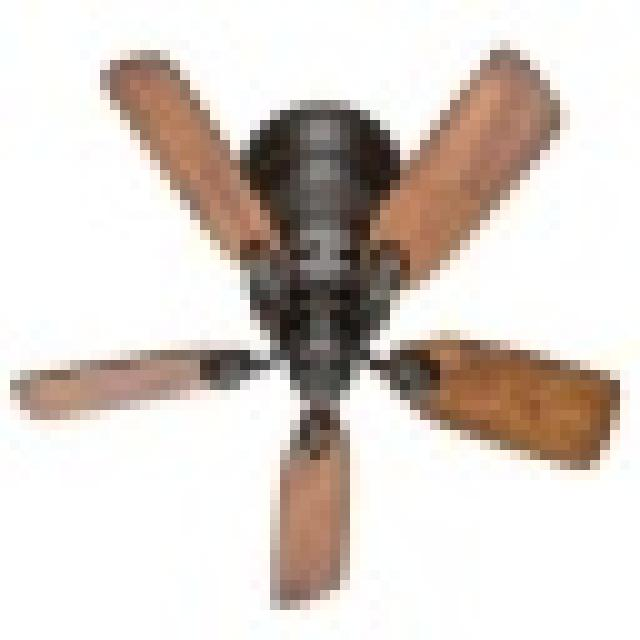Bulb: (10, 30, 640, 620)
